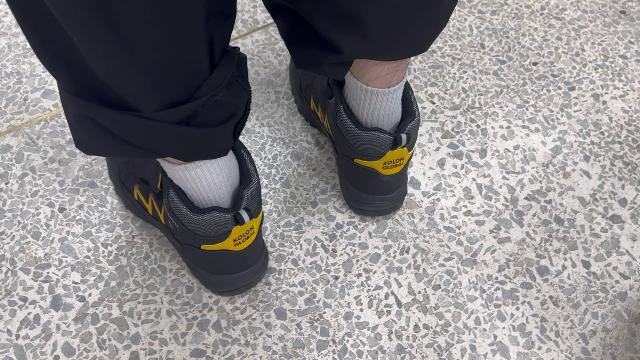shoe_worn: (103, 145, 274, 299), (283, 55, 423, 218)
